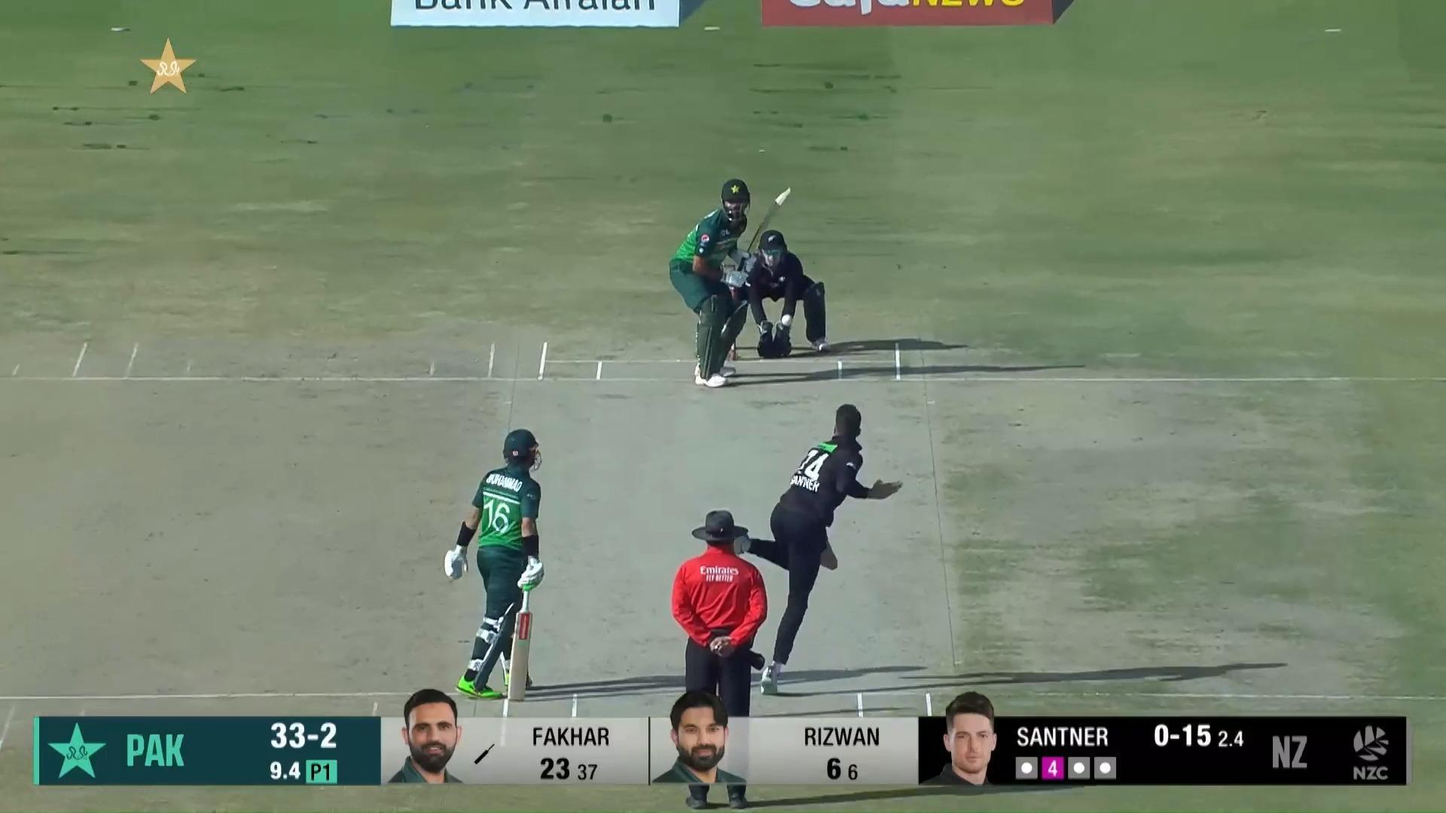BM 1: (668, 178, 793, 389)
BO: (729, 402, 908, 696)
